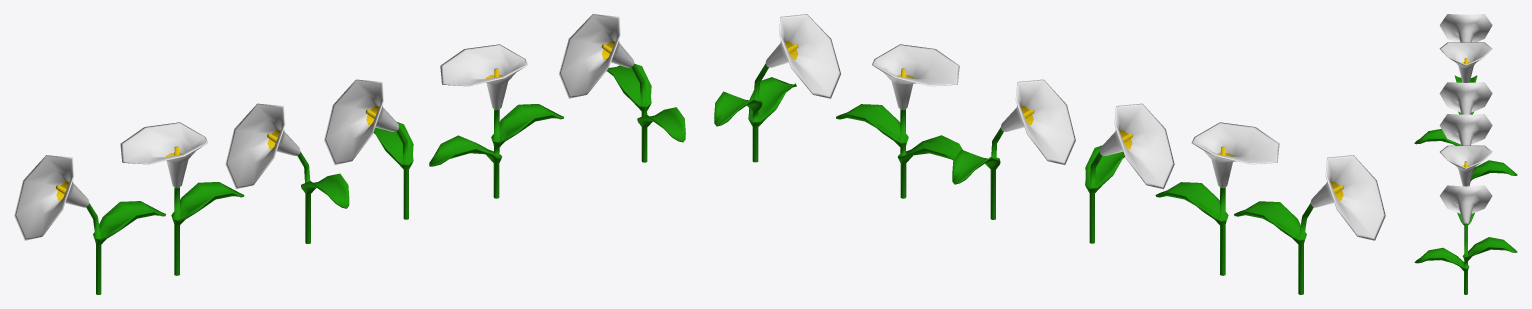
File: 05.07_Bubuia_flor1.fbx
3 renders of one model, left to right at view 1: azimuth 30°, elevation 25°; view 2: azimuth 150°, elevation 25°; view 3: azimuth 270°, elevation 25°, orthographic. The views are drawn at different scales.
Visible parts, largest first — view 1: Cylinder.005, Cylinder.004, Cylinder.001, Cylinder.002, Cylinder.003, Cylinder; view 2: Cylinder.005, Cylinder.004, Cylinder.001, Cylinder.002, Cylinder.003, Cylinder; view 3: Cylinder.005, Cylinder.003, Cylinder.002, Cylinder.001, Cylinder.004, Cylinder.
Boxes of the visible parts, x1,y1,x2,y2 form: Cylinder.005: [559, 14, 685, 162]; Cylinder.004: [429, 44, 563, 198]; Cylinder.001: [14, 155, 165, 294]; Cylinder.002: [225, 103, 349, 243]; Cylinder.003: [324, 79, 413, 219]; Cylinder: [120, 122, 244, 275]; Cylinder.005: [714, 14, 840, 162]; Cylinder.004: [836, 44, 962, 198]; Cylinder.001: [1234, 155, 1385, 294]; Cylinder.002: [1085, 103, 1174, 243]; Cylinder.003: [952, 79, 1075, 219]; Cylinder: [1155, 122, 1279, 275]; Cylinder.005: [1414, 185, 1517, 294]; Cylinder.003: [1439, 114, 1517, 180]; Cylinder.002: [1414, 82, 1492, 145]; Cylinder.001: [1439, 14, 1492, 82]; Cylinder.004: [1440, 145, 1492, 224]; Cylinder: [1439, 42, 1492, 114].
Bounding box in the file's own units: 49.24 × 11.16 × 10.49.
